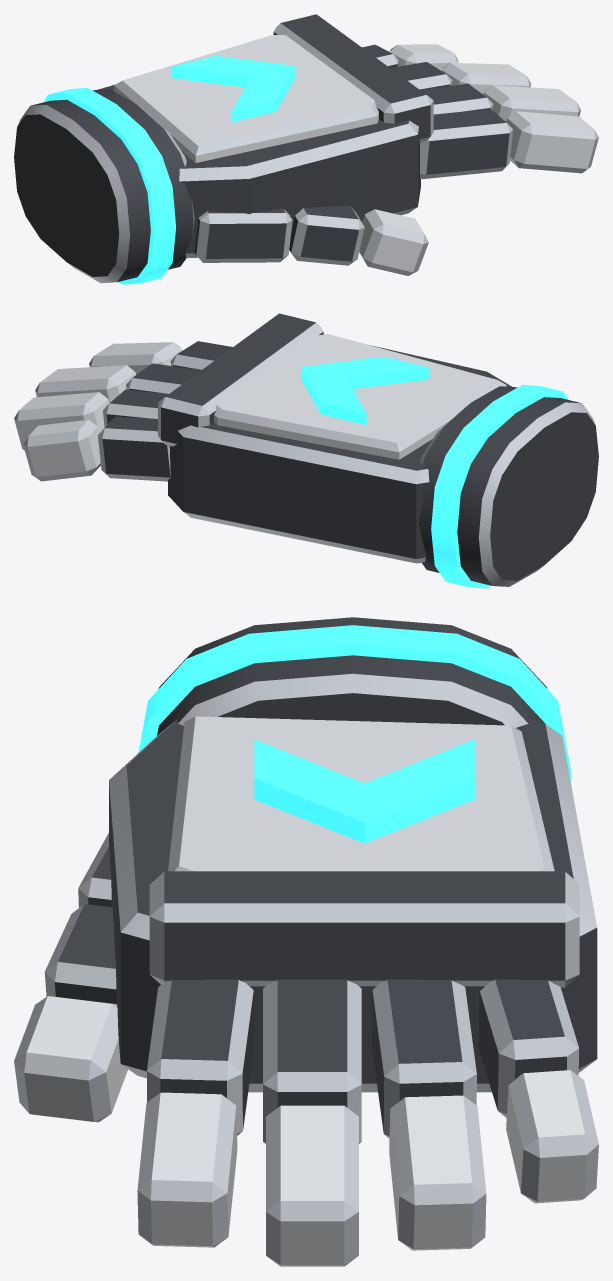
The model's file is SM_MRHand.fbx.
The picture shows the model from 3 angles, top to bottom: view 1: azimuth 30°, elevation 25°; view 2: azimuth 150°, elevation 25°; view 3: azimuth 270°, elevation 25°; orthographic projection. The views are drawn at different scales.
Parts seen in each view (by area): view 1: SM_MRHand; view 2: SM_MRHand; view 3: SM_MRHand.
Part boxes in pixels (left/top/right/bottom): SM_MRHand: left=14, top=14, right=598, bottom=284; SM_MRHand: left=14, top=313, right=598, bottom=588; SM_MRHand: left=14, top=617, right=598, bottom=1266.
Bounding box in the file's own units: 0.179 × 0.055 × 0.1007.
